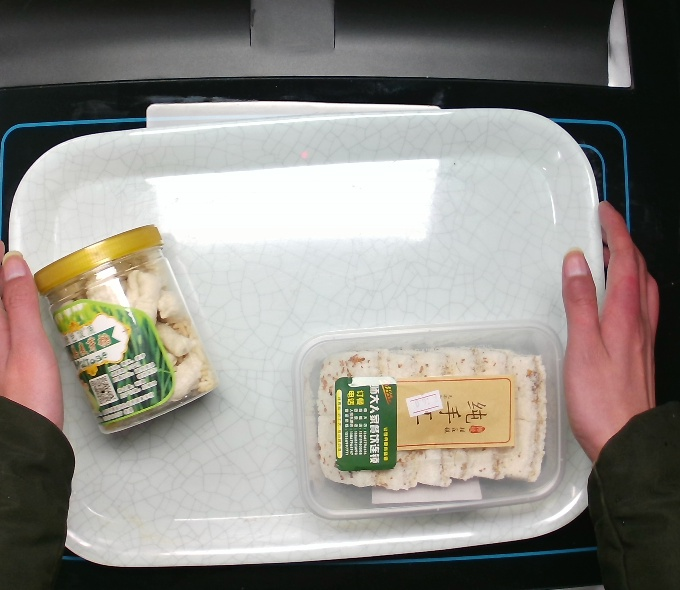wcq-GuiHuaGao: (284, 317, 574, 525)
wcq-MaiYaTang: (28, 219, 222, 439)
